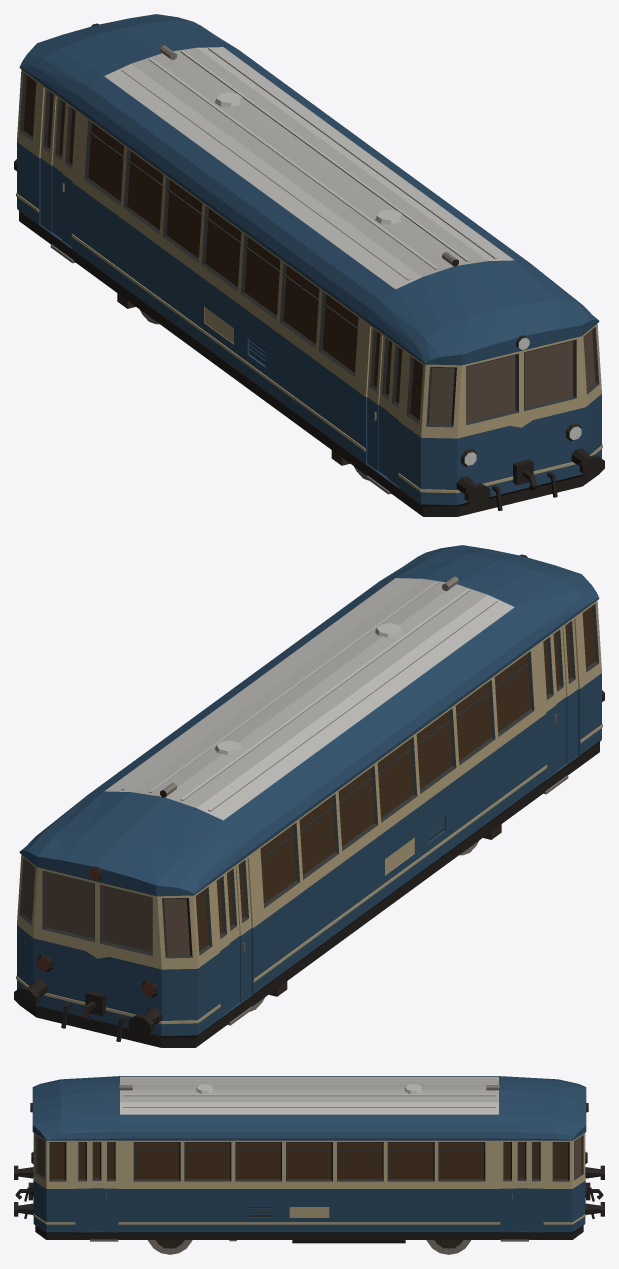
File: railbus-e972f3.glb
3 renders of one model, top to bottom at view 1: azimuth 30°, elevation 25°; view 2: azimuth 150°, elevation 25°; view 3: azimuth 270°, elevation 25°, orthographic. The views are drawn at different scales.
Visible parts, largest first — view 1: body; view 2: body; view 3: body, wheel-1-set, wheel-2-set.
Boxes of the visible parts, <box> form: body: <box>14,14,604,516</box>; body: <box>14,545,604,1047</box>; body: <box>14,1076,604,1248</box>; wheel-1-set: <box>148,1240,192,1254</box>; wheel-2-set: <box>426,1240,470,1254</box>.
Bounding box in the file's own units: 2.78 × 3.45 × 12.
